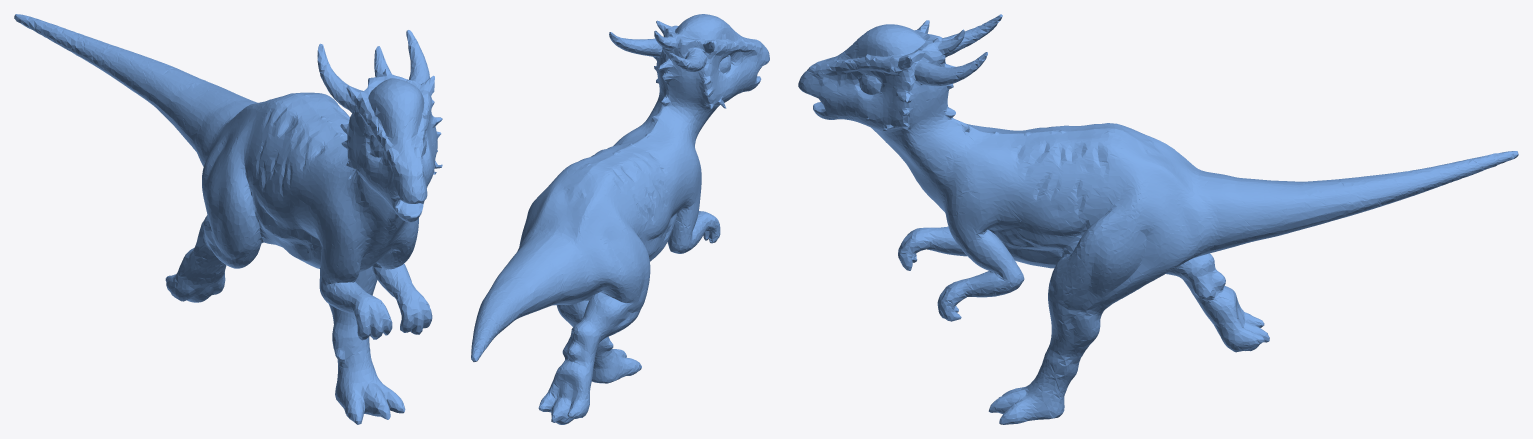
The model's file is animated_mesh.glb.
3 views of the same model, side by side, from view 1: azimuth 30°, elevation 25°; view 2: azimuth 150°, elevation 25°; view 3: azimuth 270°, elevation 25° (orthographic). The views are drawn at different scales.
Visible parts, largest first — view 1: AnimatedMesh; view 2: AnimatedMesh; view 3: AnimatedMesh.
Boxes of the visible parts, bbox=[...] form: AnimatedMesh: bbox=[14, 14, 442, 424]; AnimatedMesh: bbox=[471, 14, 769, 424]; AnimatedMesh: bbox=[798, 14, 1518, 424].
Size of the model in its own units: 0.4286 by 1.08 by 1.87.
